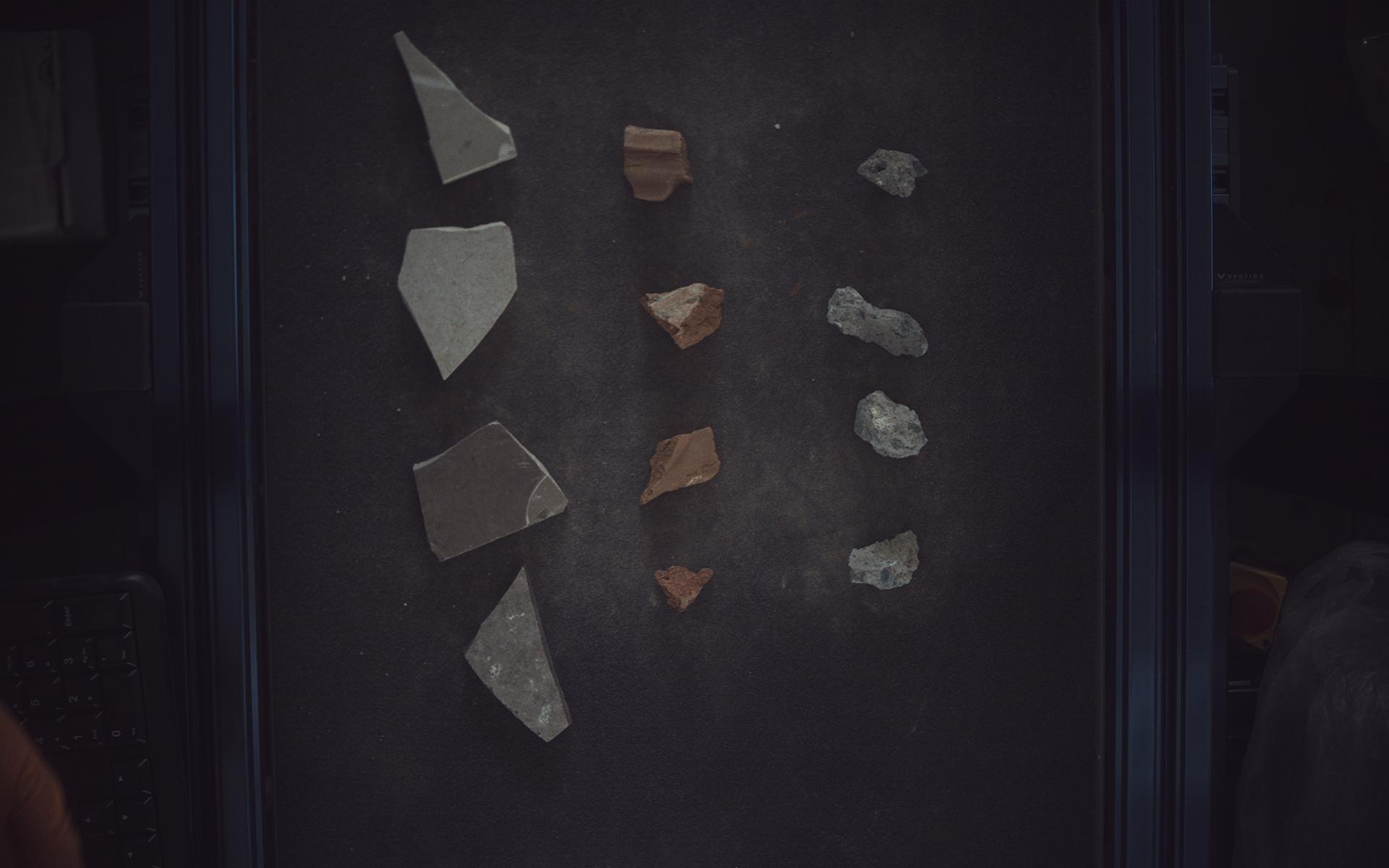brick: (641, 427, 722, 505), (642, 282, 726, 349), (624, 125, 694, 200), (655, 566, 715, 612)
concrete: (828, 287, 930, 357), (856, 391, 929, 459), (851, 531, 920, 590), (859, 148, 930, 197)
tile: (414, 421, 568, 561), (394, 30, 517, 182), (398, 221, 517, 378), (465, 568, 571, 743)
